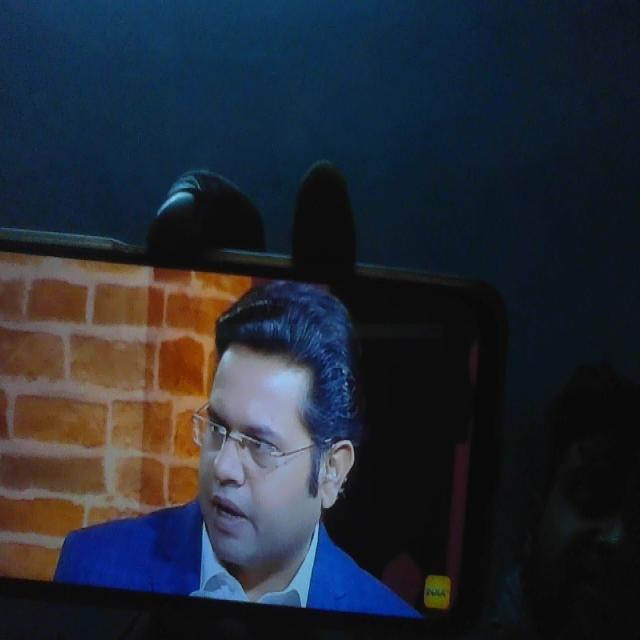fake: (189, 297, 340, 583)
